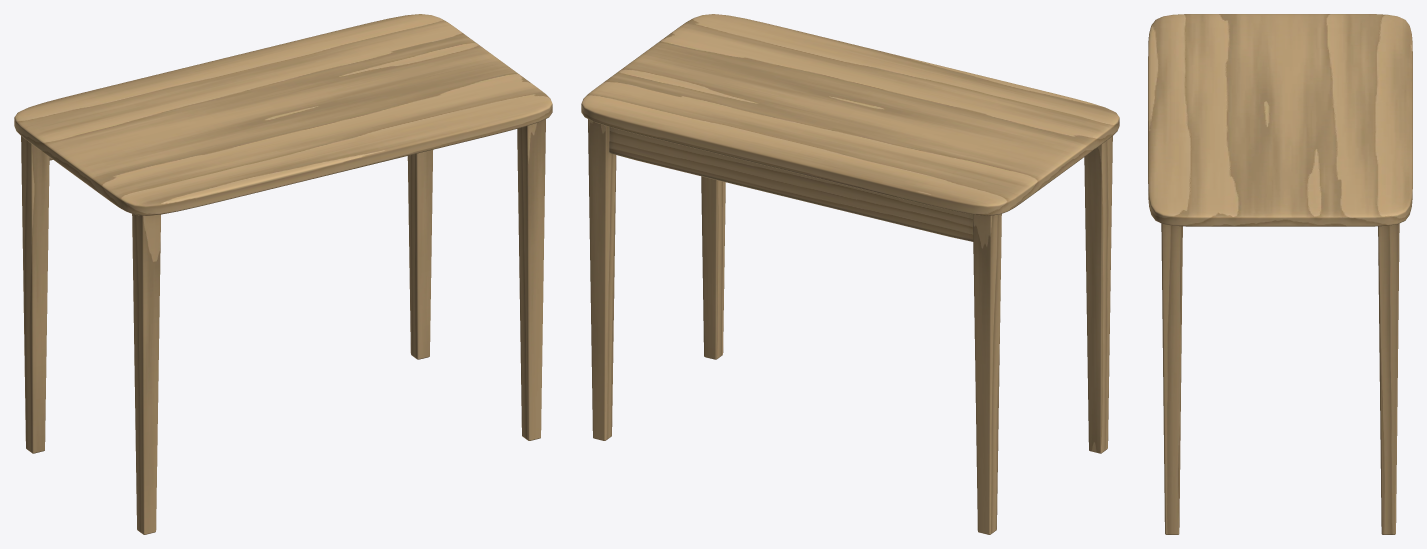
Rendered from white-oak-compact.glb.
3 renders of one model, left to right at view 1: azimuth 30°, elevation 25°; view 2: azimuth 150°, elevation 25°; view 3: azimuth 270°, elevation 25°, orthographic. The views are drawn at different scales.
Parts seen in each view (by area): view 1: wood_x, wood_v; view 2: wood_x, wood_v; view 3: wood_x, wood_v.
Boxes of the visible parts, left/top/right/bottom form: wood_x: left=14, top=14, right=552, bottom=215; wood_v: left=21, top=119, right=545, bottom=534; wood_x: left=581, top=14, right=1119, bottom=241; wood_v: left=588, top=119, right=1112, bottom=534; wood_x: left=1148, top=14, right=1412, bottom=226; wood_v: left=1161, top=223, right=1399, bottom=534.
Bounding box in the file's own units: 1 × 0.75 × 0.55.
2 materials, 2 textured.
